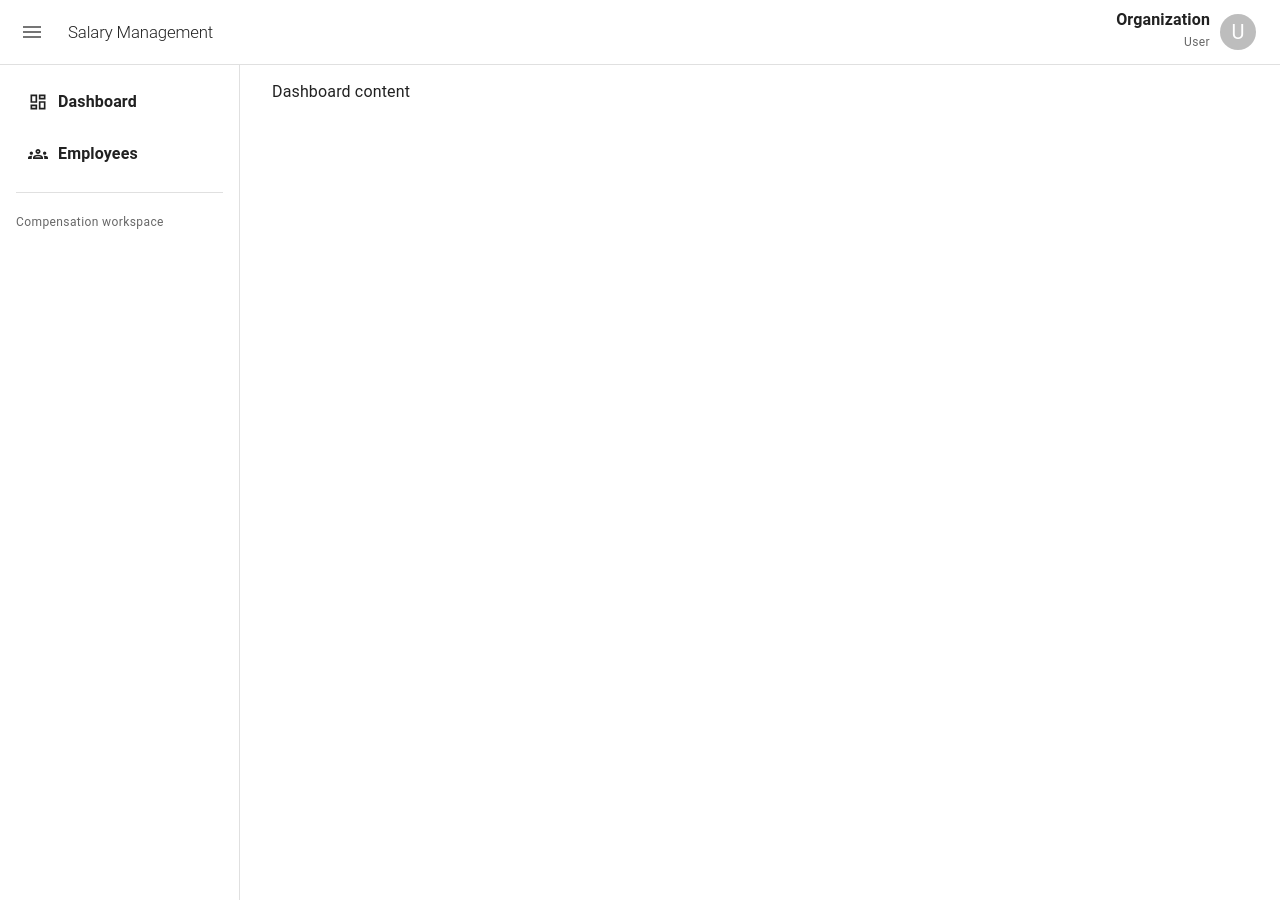
Test: protected app layout behavior › collapses and expands the sidebar navigation
Check: the link "Dashboard" is shown, box [28, 92, 137, 112]
Check: the text "Compensation workspace" is shown, box [16, 215, 164, 229]
Click the button named "Collapse navigation" at [32, 32], box [12, 12, 52, 52]
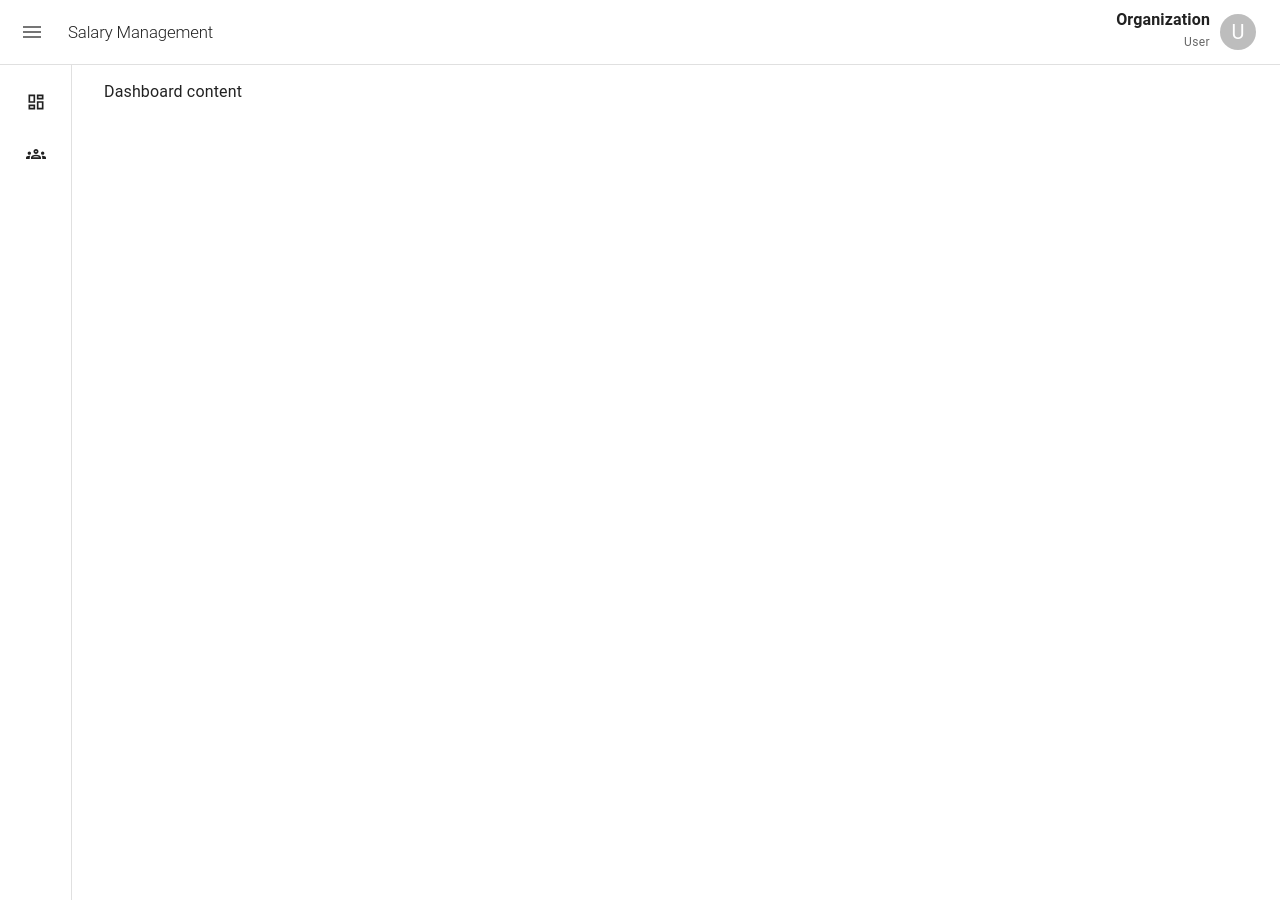
Check: the text "Compensation workspace" is gone
Click the button named "Expand navigation" at [32, 32], box [12, 12, 52, 52]
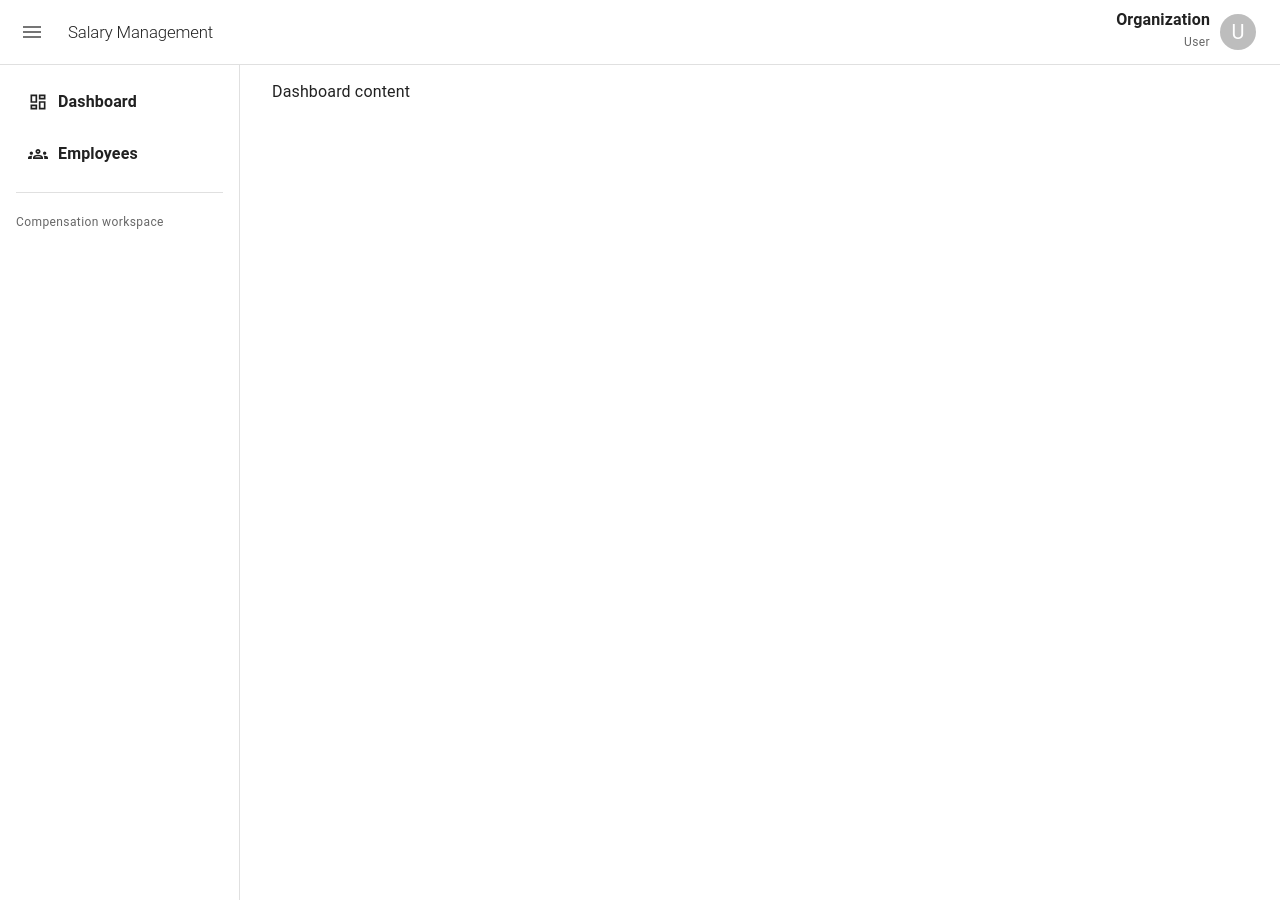
Check: the text "Compensation workspace" is shown, box [16, 215, 164, 229]
